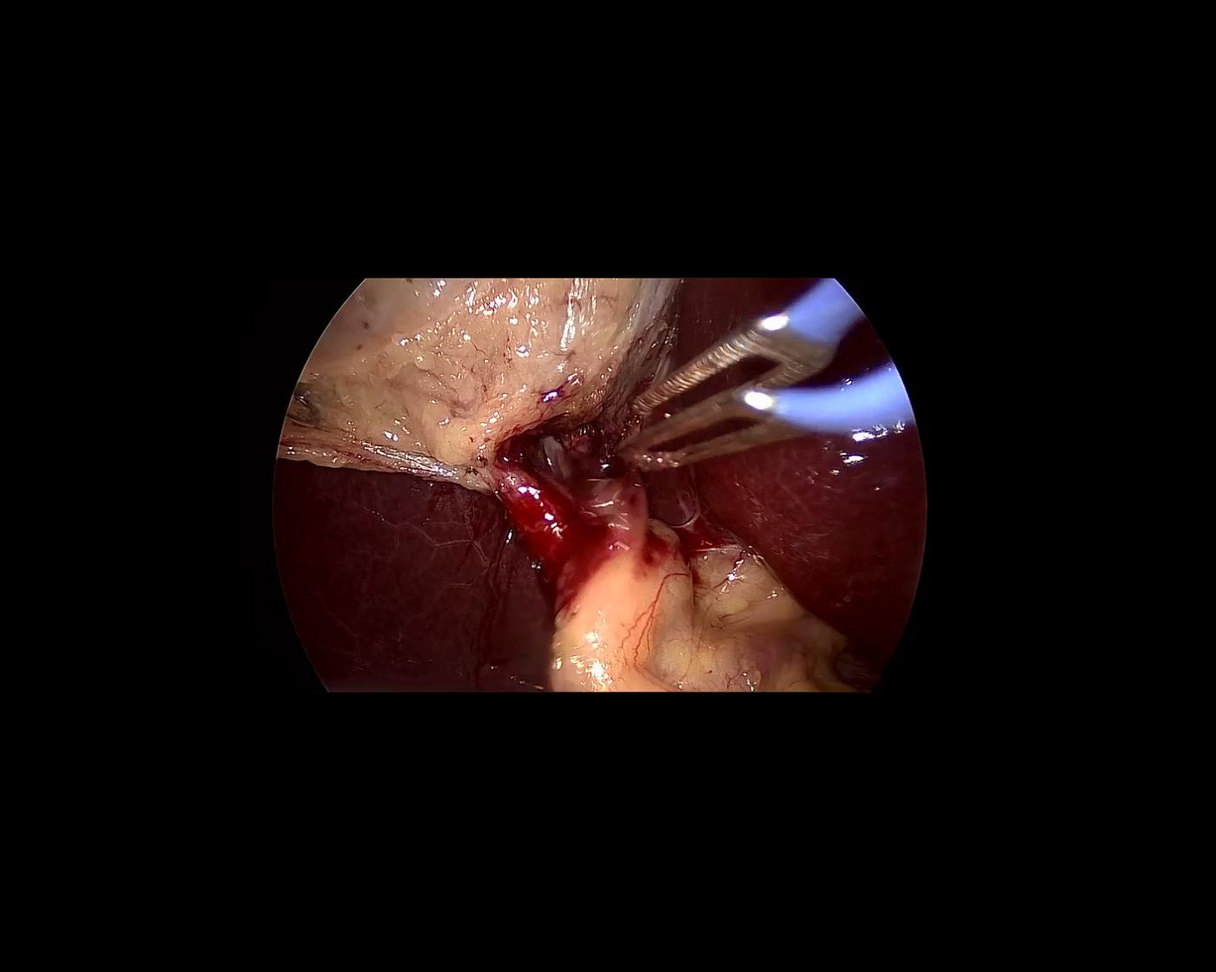Allis: (590, 267, 911, 509)
Gallbladder: (279, 278, 682, 485)
Liver: (652, 275, 928, 646), (275, 462, 553, 691)
